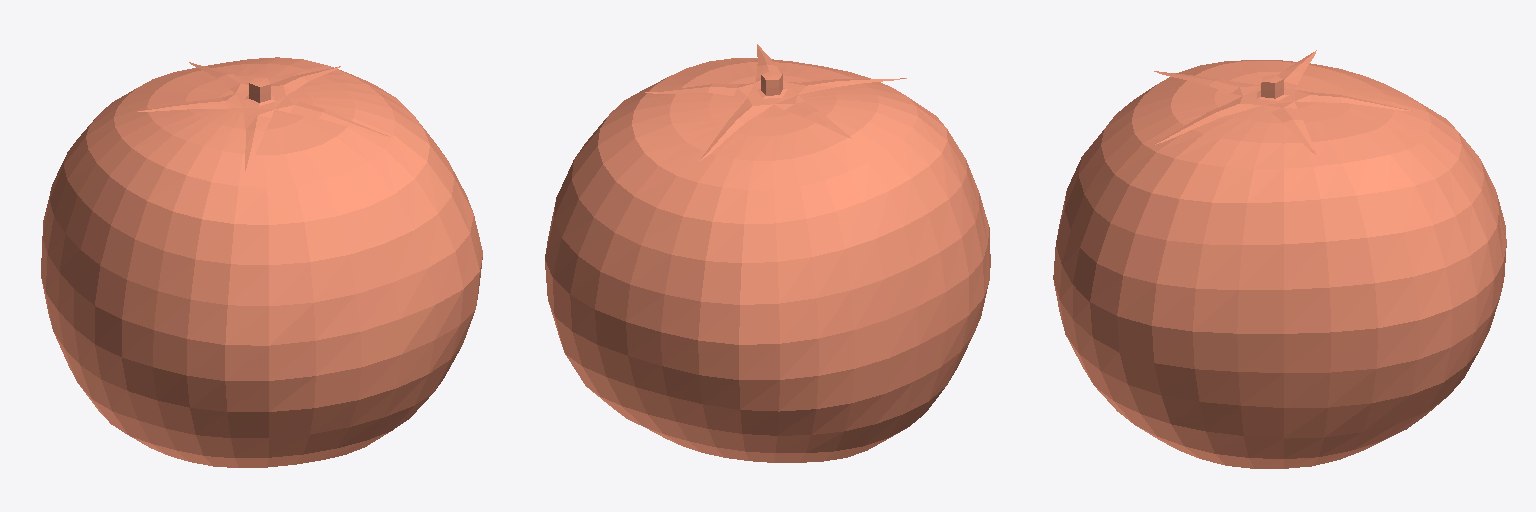
The model's file is Tomato_19.obj.
The picture shows the model from 3 angles: view 1: azimuth 30°, elevation 25°; view 2: azimuth 150°, elevation 25°; view 3: azimuth 270°, elevation 25°; orthographic projection.
Bounding box in the file's own units: 0.1127 × 0.1053 × 0.122.